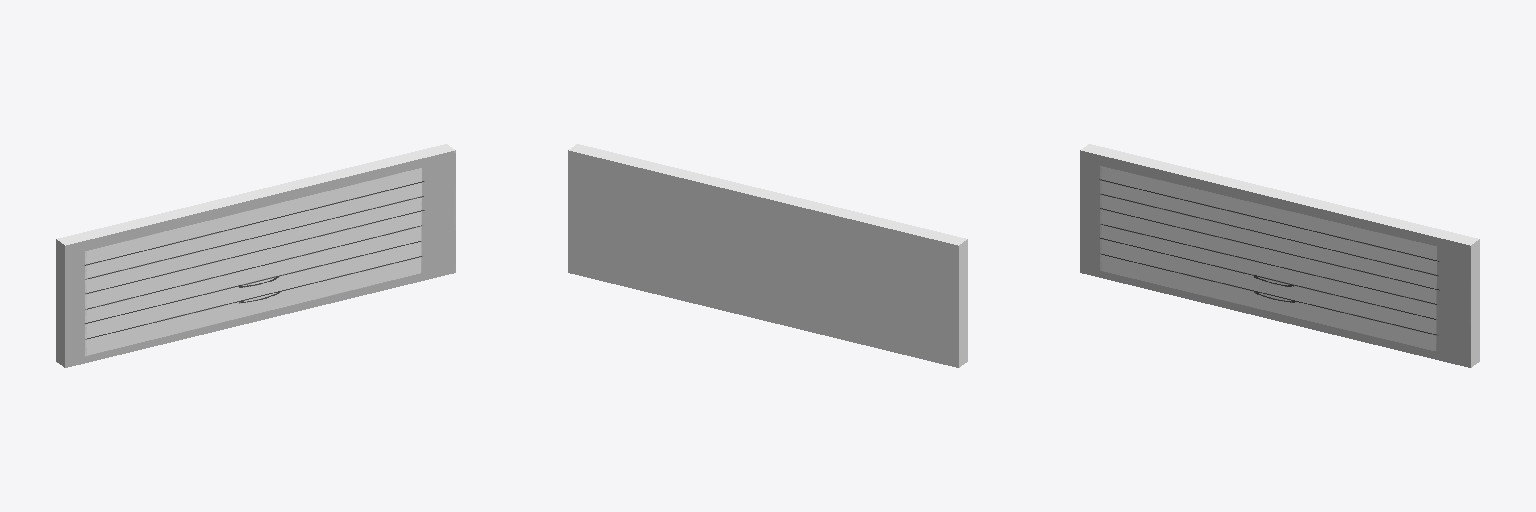
3 views of the same model, side by side, from view 1: azimuth 30°, elevation 25°; view 2: azimuth 150°, elevation 25°; view 3: azimuth 330°, elevation 25° (orthographic).
Parts seen in each view (by area): view 1: Cube; view 2: Cube; view 3: Cube.
Boxes of the visible parts, x1=… form: Cube: x1=56, y1=144, x2=455, y2=367; Cube: x1=568, y1=144, x2=967, y2=367; Cube: x1=1080, y1=144, x2=1479, y2=367.
Size of the model in its own units: 10 by 3 by 0.4.
1 materials, 1 textured.